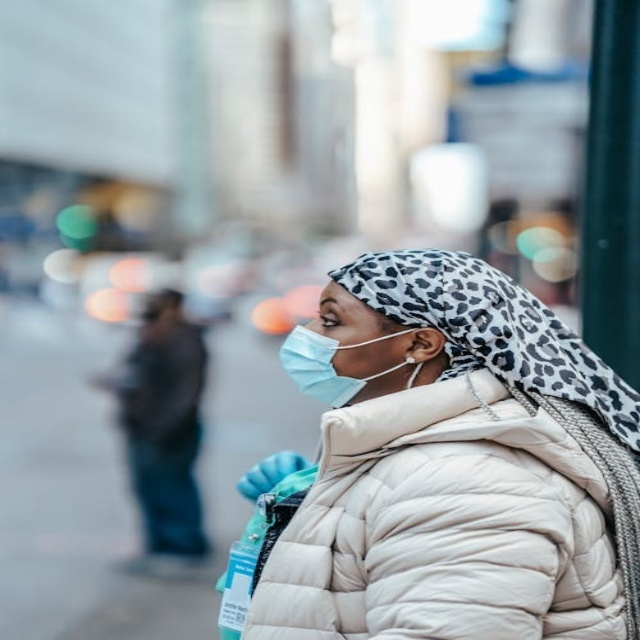Mascara: (278, 321, 399, 407)
Sin_gafas: (310, 299, 364, 333)
